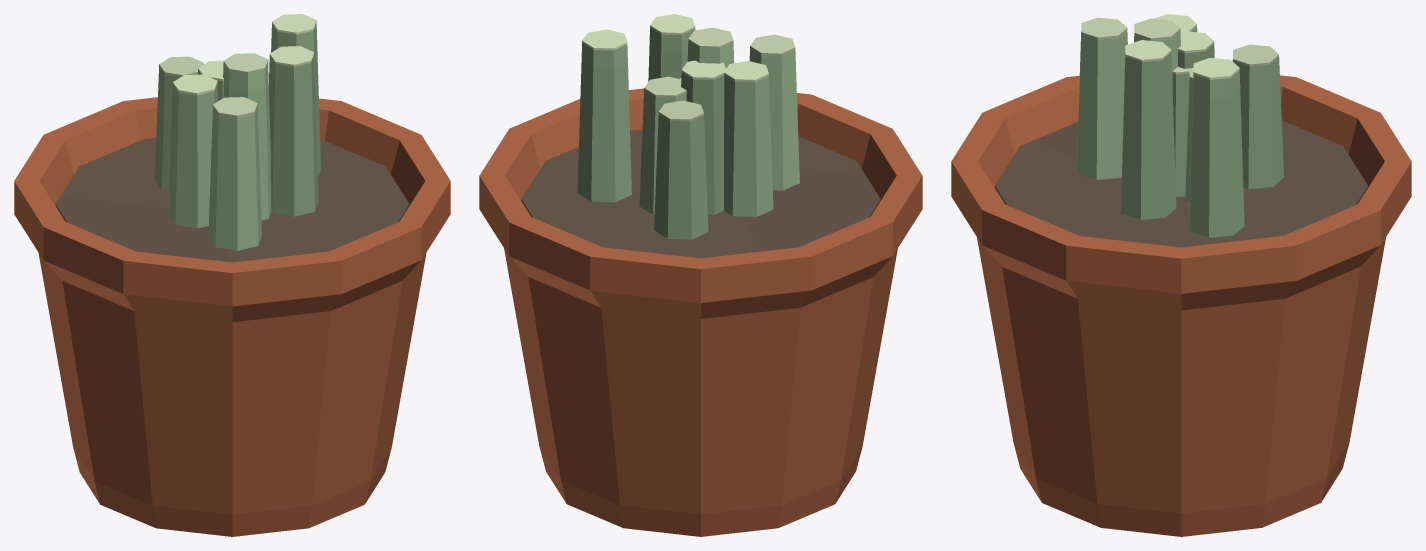
Rendered from new-rhopalophylla.glb.
3 views of the same model, side by side, from view 1: azimuth 30°, elevation 25°; view 2: azimuth 150°, elevation 25°; view 3: azimuth 270°, elevation 25° (orthographic). The views are drawn at different scales.
Visible parts, largest first — view 1: new-rhopalophylla/review-terra-vessel, new-rhopalophylla/review-rooted-soil, new-rhopalophylla/cylindrical-leaf-011, new-rhopalophylla/cylindrical-leaf-015, new-rhopalophylla/cylindrical-leaf-009, new-rhopalophylla/cylindrical-leaf-005, new-rhopalophylla/cylindrical-leaf-013, new-rhopalophylla/cylindrical-leaf-017, new-rhopalophylla/leaf-window-006, new-rhopalophylla/leaf-window-012, new-rhopalophylla/leaf-window-016, new-rhopalophylla/leaf-window-010 (+2 smaller); view 2: new-rhopalophylla/review-terra-vessel, new-rhopalophylla/review-rooted-soil, new-rhopalophylla/cylindrical-leaf-017, new-rhopalophylla/cylindrical-leaf-009, new-rhopalophylla/cylindrical-leaf-013, new-rhopalophylla/cylindrical-leaf-015, new-rhopalophylla/cylindrical-leaf-003, new-rhopalophylla/cylindrical-leaf-007, new-rhopalophylla/cylindrical-leaf-011, new-rhopalophylla/cylindrical-leaf-005, new-rhopalophylla/leaf-window-006, new-rhopalophylla/leaf-window-016 (+6 smaller); view 3: new-rhopalophylla/review-terra-vessel, new-rhopalophylla/review-rooted-soil, new-rhopalophylla/cylindrical-leaf-017, new-rhopalophylla/cylindrical-leaf-011, new-rhopalophylla/cylindrical-leaf-015, new-rhopalophylla/cylindrical-leaf-013, new-rhopalophylla/cylindrical-leaf-001, new-rhopalophylla/leaf-window-016, new-rhopalophylla/leaf-window-012, new-rhopalophylla/leaf-window-018, new-rhopalophylla/leaf-window-006, new-rhopalophylla/leaf-window-014 (+2 smaller).
Part boxes in pixels (x1,y1,x2,y2): new-rhopalophylla/review-terra-vessel: (14,97,450,536); new-rhopalophylla/review-rooted-soil: (55,137,409,262); new-rhopalophylla/cylindrical-leaf-011: (269,55,318,216); new-rhopalophylla/cylindrical-leaf-015: (208,106,261,250); new-rhopalophylla/cylindrical-leaf-009: (168,83,218,228); new-rhopalophylla/cylindrical-leaf-005: (223,62,271,220); new-rhopalophylla/cylindrical-leaf-013: (154,66,197,191); new-rhopalophylla/cylindrical-leaf-017: (271,23,320,177); new-rhopalophylla/leaf-window-006: (223,53,268,73); new-rhopalophylla/leaf-window-012: (269,46,314,66); new-rhopalophylla/leaf-window-016: (213,97,257,117); new-rhopalophylla/leaf-window-010: (173,74,217,95); new-rhopalophylla/review-terra-vessel: (479,88,922,536); new-rhopalophylla/review-rooted-soil: (521,129,880,258); new-rhopalophylla/cylindrical-leaf-017: (577,43,631,202); new-rhopalophylla/cylindrical-leaf-009: (724,75,773,216); new-rhopalophylla/cylindrical-leaf-013: (654,114,708,239); new-rhopalophylla/cylindrical-leaf-015: (749,48,799,190); new-rhopalophylla/cylindrical-leaf-003: (681,72,724,214); new-rhopalophylla/cylindrical-leaf-007: (639,90,686,214); new-rhopalophylla/cylindrical-leaf-011: (648,27,695,81); new-rhopalophylla/cylindrical-leaf-005: (687,41,734,68); new-rhopalophylla/leaf-window-006: (688,27,733,48); new-rhopalophylla/leaf-window-016: (750,34,795,55); new-rhopalophylla/review-terra-vessel: (951,75,1411,536); new-rhopalophylla/review-rooted-soil: (995,120,1367,247); new-rhopalophylla/cylindrical-leaf-017: (1189,70,1244,237); new-rhopalophylla/cylindrical-leaf-011: (1121,52,1176,219); new-rhopalophylla/cylindrical-leaf-015: (1077,30,1127,179); new-rhopalophylla/cylindrical-leaf-013: (1232,57,1283,189); new-rhopalophylla/cylindrical-leaf-001: (1172,73,1189,197); new-rhopalophylla/leaf-window-016: (1081,17,1127,39); new-rhopalophylla/leaf-window-012: (1125,40,1171,61); new-rhopalophylla/leaf-window-018: (1193,58,1239,79); new-rhopalophylla/leaf-window-006: (1134,18,1180,40); new-rhopalophylla/leaf-window-014: (1233,44,1278,66).
Size of the model in its own units: 0.19 by 0.201 by 0.19.
4 materials, 4 textured.
